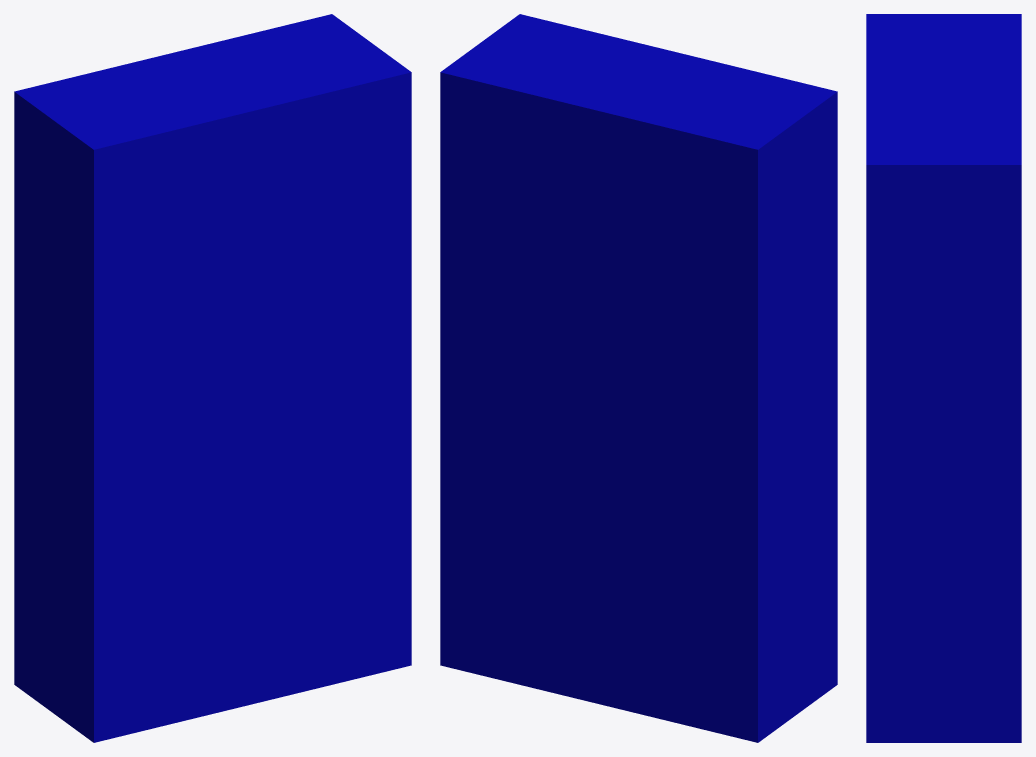
3 views of the same model, side by side, from view 1: azimuth 30°, elevation 25°; view 2: azimuth 150°, elevation 25°; view 3: azimuth 270°, elevation 25° (orthographic). The views are drawn at different scales.
Size of the model in its own units: 1068 by 1903 by 463.
